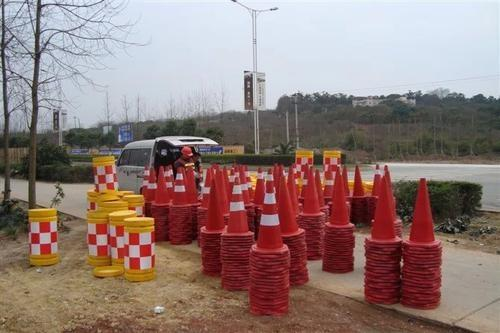cone_barrel: (254, 169, 286, 248), (367, 172, 400, 239), (407, 178, 436, 242), (327, 165, 351, 228), (226, 175, 245, 229), (301, 167, 319, 213), (170, 164, 190, 204), (152, 165, 170, 202), (349, 161, 366, 196), (370, 161, 381, 194)
